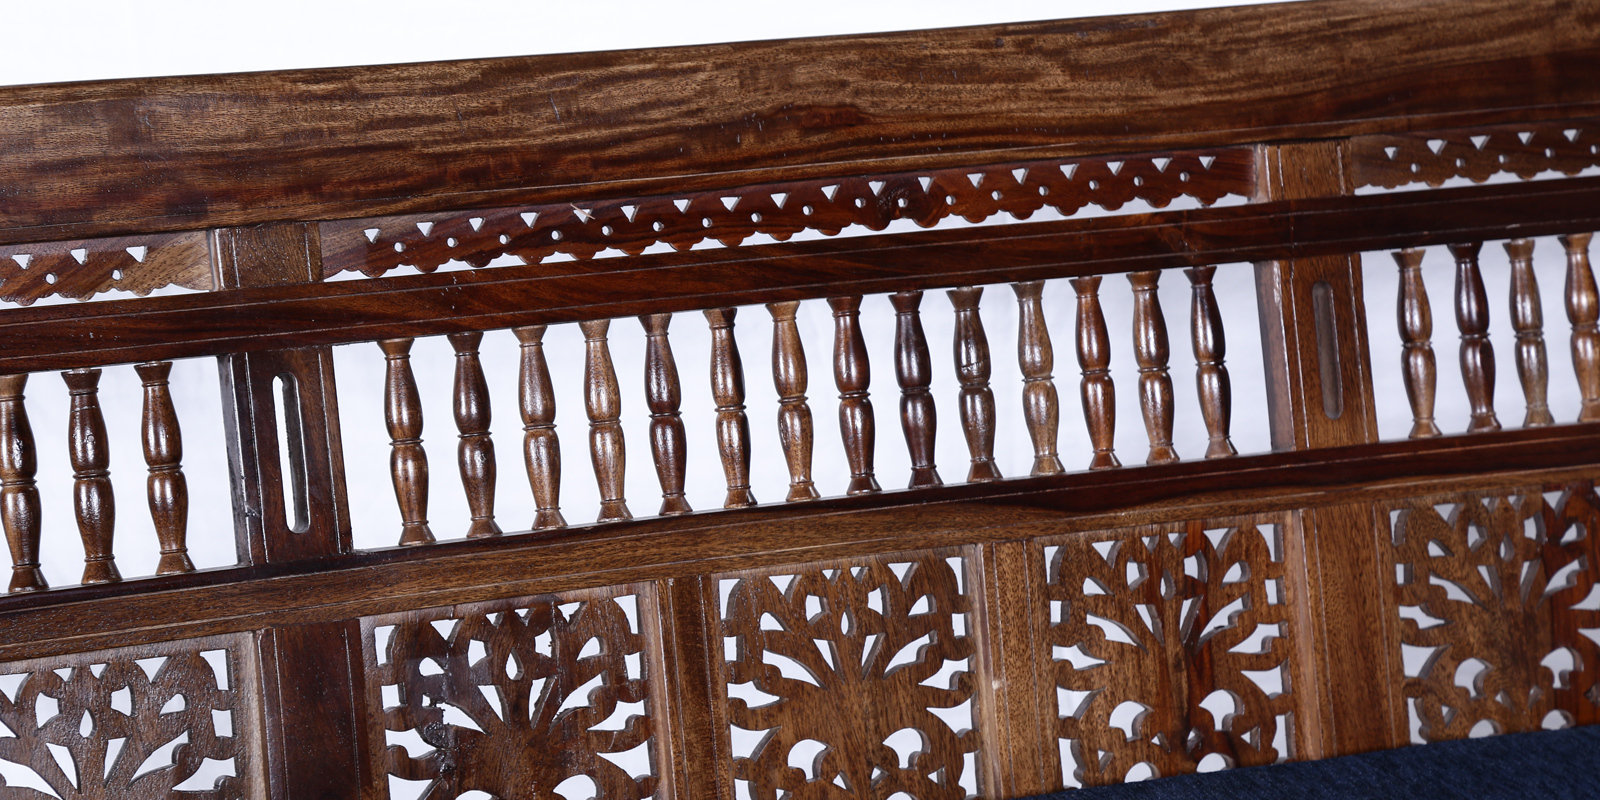Maurya Handcrafted Three Seater Sofa in Provincial Teak Finish by Mudramark: (1, 1, 1592, 800)
